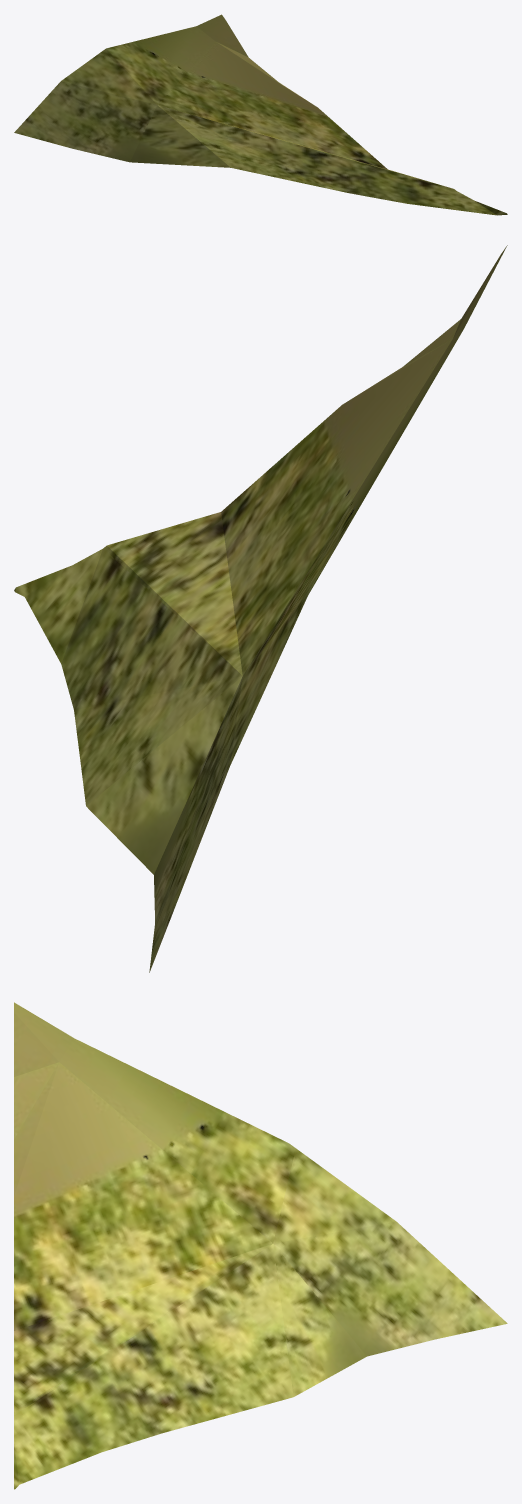
3 views of the same model, one above another, from view 1: azimuth 30°, elevation 25°; view 2: azimuth 150°, elevation 25°; view 3: azimuth 270°, elevation 25° (orthographic). The views are drawn at different scales.
Size of the model in its own units: 1.94 by 1.75 by 2.44.
Materials: 1 (1 with a texture image).
